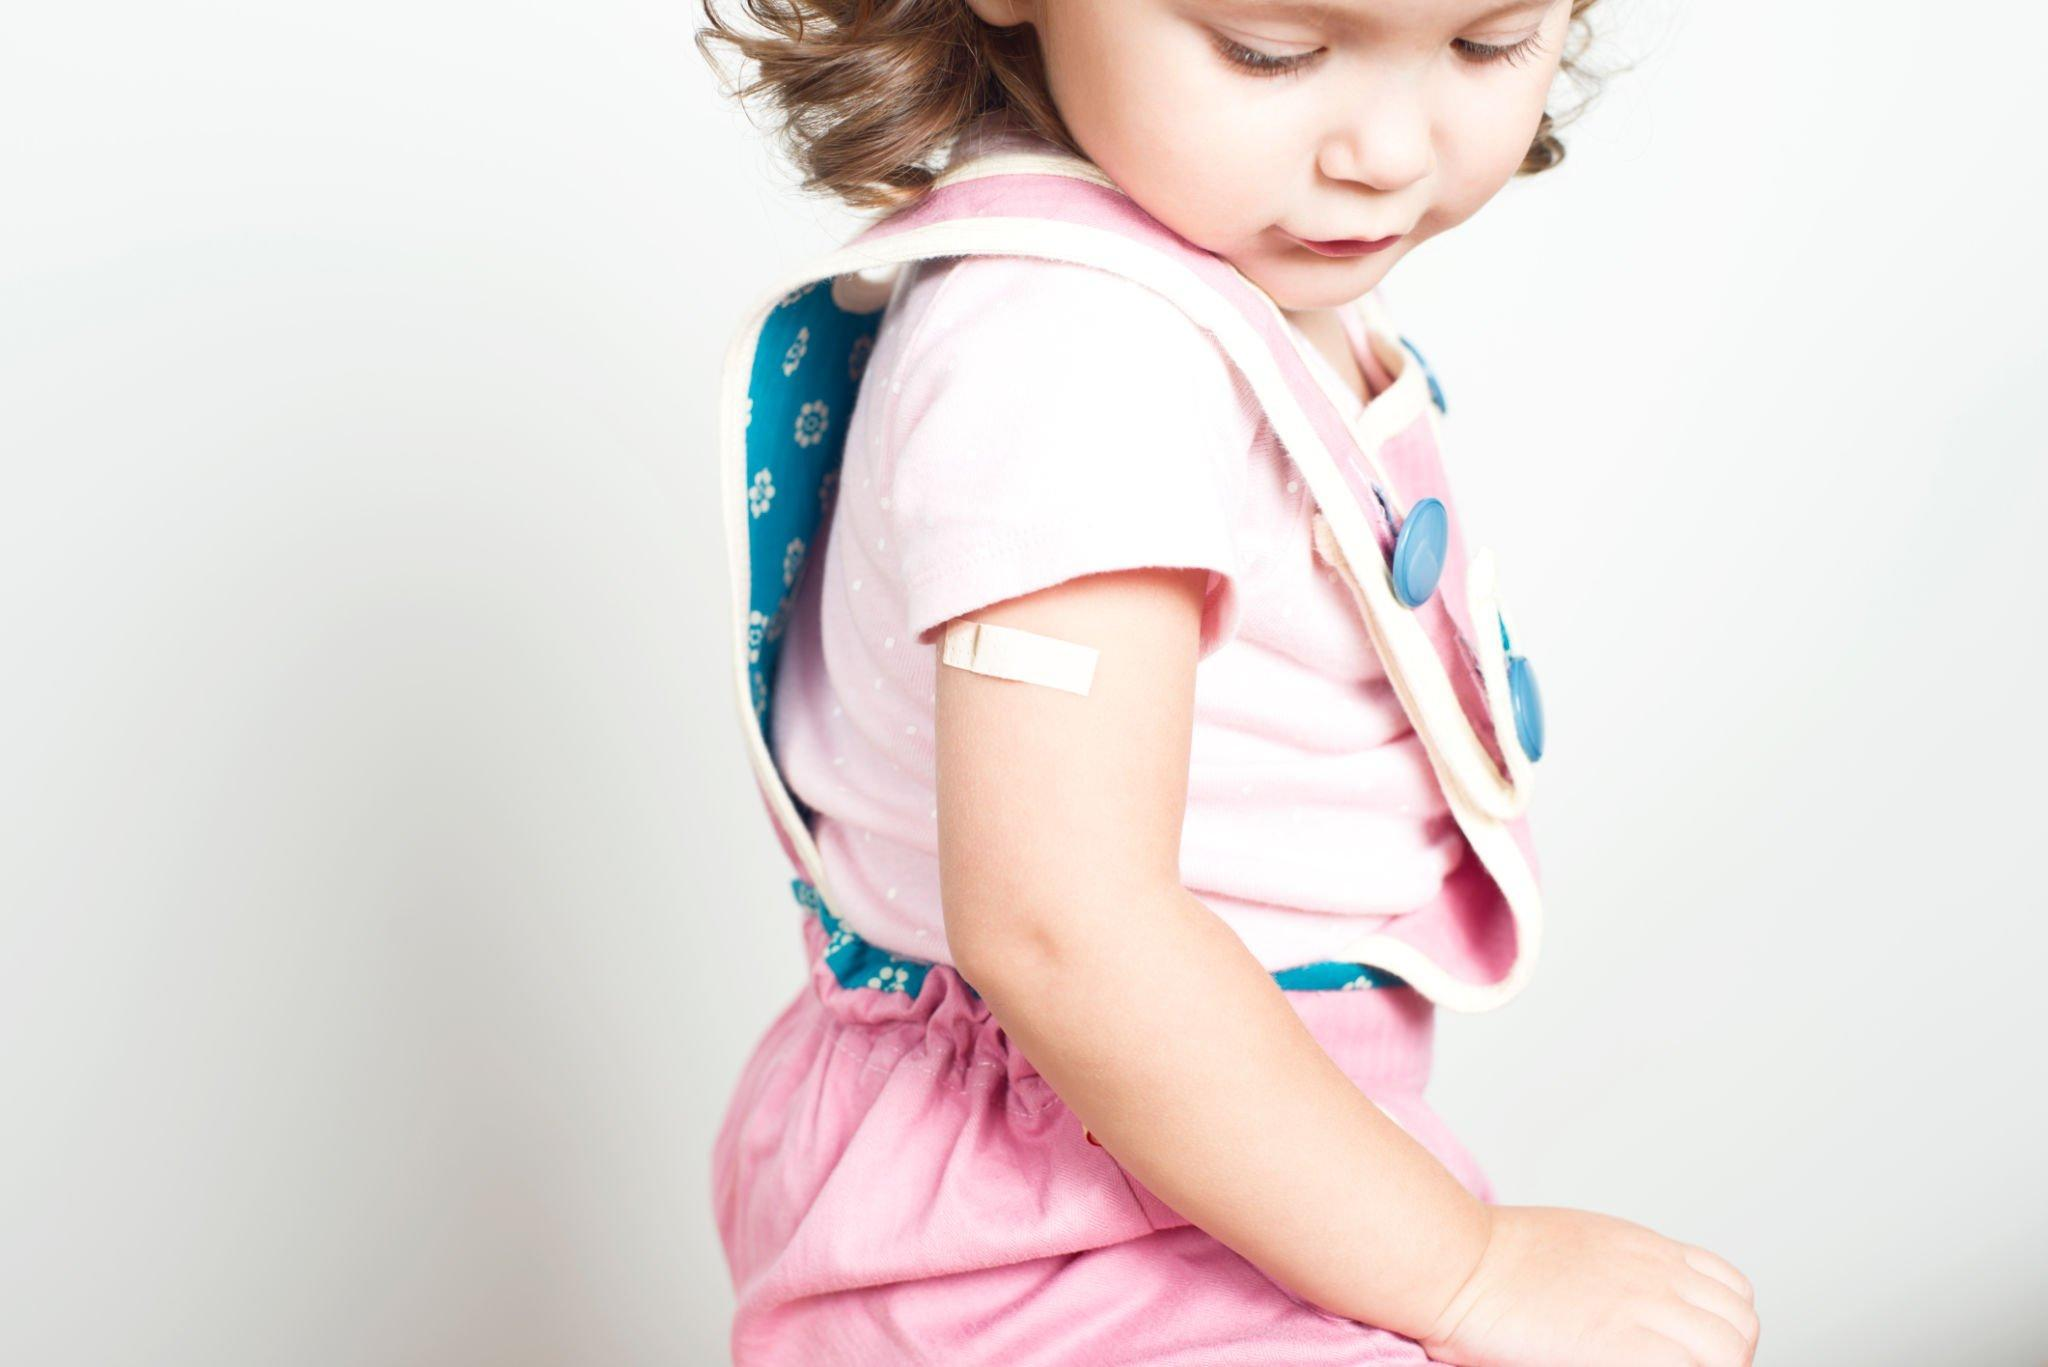Healthy: (1028, 6, 1552, 339)
